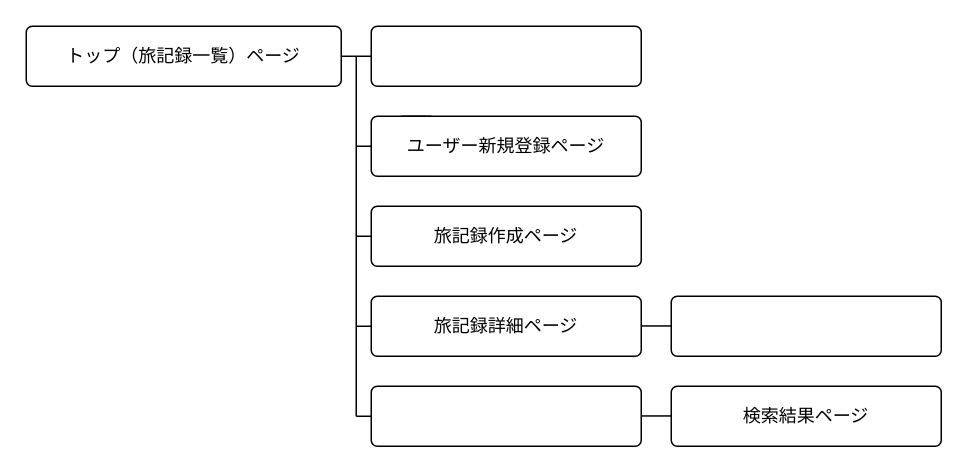
The diagram is 968 pixels wide and 473 high, and some of its shapes have lost their labels. The centre of each missing label's shape, as x and y in pixels:
イベント作成ページ: the point at 805,325
ユーザーログインページ: the point at 505,55
都道府県検索ページ: the point at 505,415
